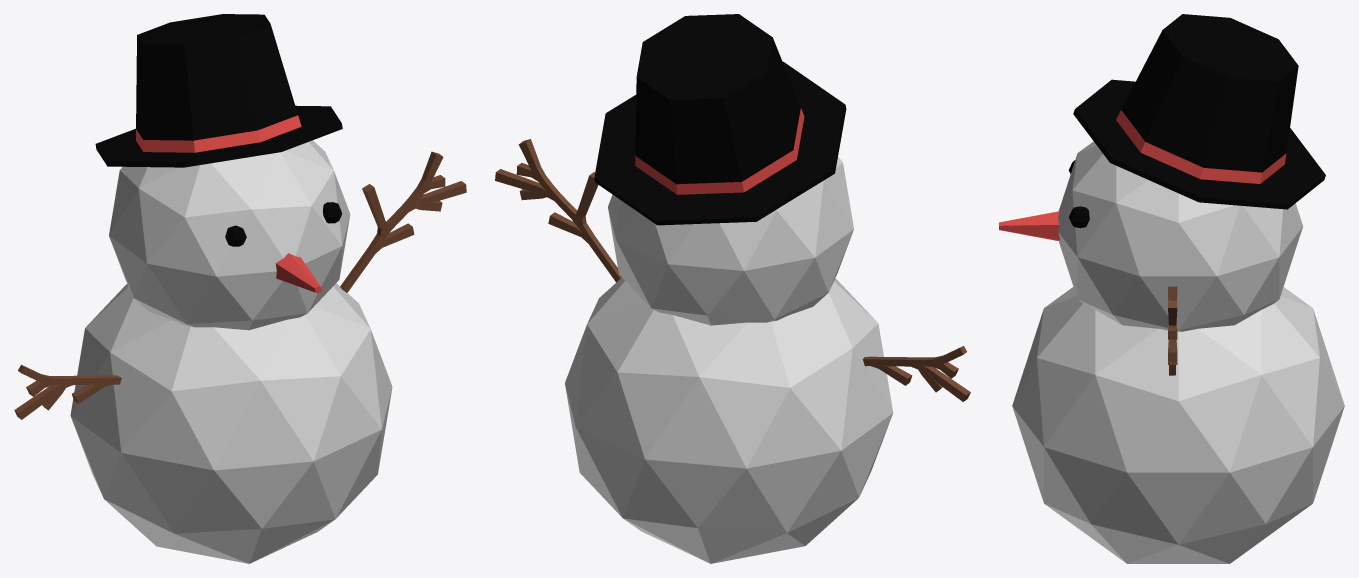
Rendered from SnowMan.fbx.
3 views of the same model, side by side, from view 1: azimuth 30°, elevation 25°; view 2: azimuth 150°, elevation 25°; view 3: azimuth 270°, elevation 25° (orthographic).
Parts seen in each view (by area): view 1: Icosphere.005, Icosphere.006, Cylinder.003, Vert.003, Vert.002, Cylinder.004; view 2: Icosphere.005, Cylinder.003, Icosphere.006, Vert.003, Vert.002; view 3: Icosphere.005, Cylinder.003, Icosphere.006, Cylinder.004, Vert.003.
Boxes of the visible parts, bbox=[...] form: Icosphere.005: bbox=[70, 283, 392, 563]; Icosphere.006: bbox=[109, 140, 350, 330]; Cylinder.003: bbox=[95, 14, 342, 167]; Vert.003: bbox=[340, 151, 466, 292]; Vert.002: bbox=[14, 364, 121, 419]; Cylinder.004: bbox=[275, 253, 321, 293]; Icosphere.005: bbox=[565, 278, 893, 563]; Cylinder.003: bbox=[594, 14, 846, 225]; Icosphere.006: bbox=[608, 157, 853, 325]; Vert.003: bbox=[495, 139, 621, 282]; Vert.002: bbox=[863, 346, 970, 401]; Icosphere.005: bbox=[1012, 287, 1344, 563]; Cylinder.003: bbox=[1073, 14, 1325, 209]; Icosphere.006: bbox=[1058, 141, 1303, 331]; Cylinder.004: bbox=[999, 211, 1059, 240]; Vert.003: bbox=[1168, 286, 1177, 375].
Size of the model in its own units: 646 by 706 by 421.
